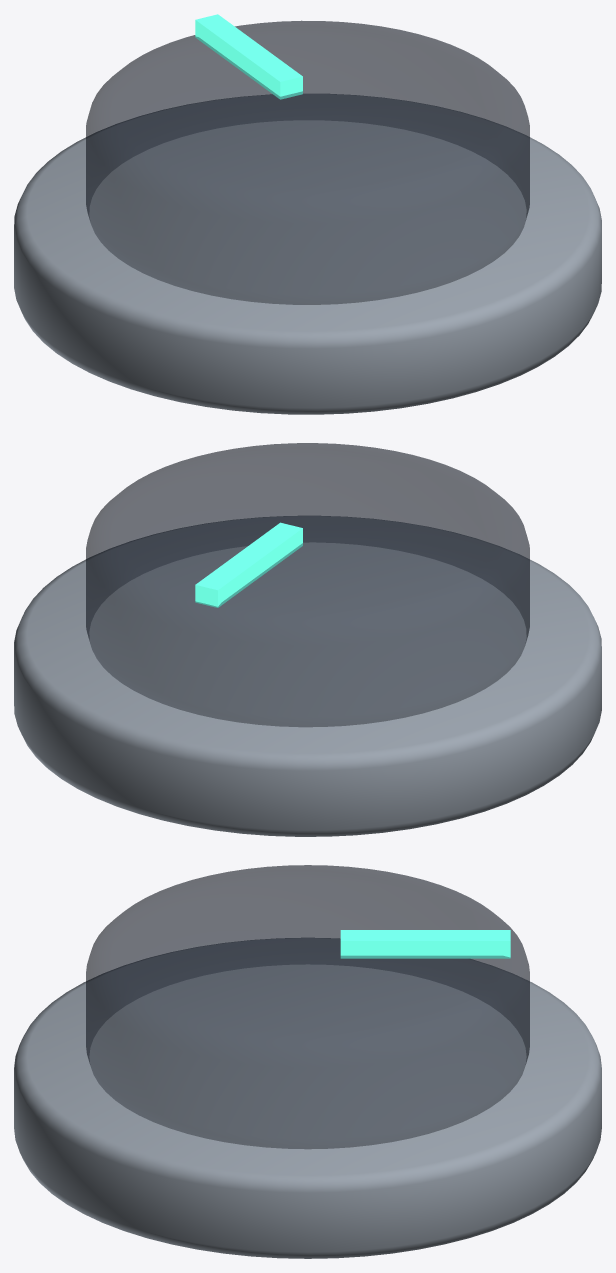
File: dial.glb
3 renders of one model, top to bottom at view 1: azimuth 30°, elevation 25°; view 2: azimuth 150°, elevation 25°; view 3: azimuth 270°, elevation 25°, orthographic.
Visible parts, largest first — view 1: lumen_dial_collar, lumen_dial_knob, lumen_dial_mark; view 2: lumen_dial_collar, lumen_dial_knob, lumen_dial_mark; view 3: lumen_dial_collar, lumen_dial_knob, lumen_dial_mark.
Part boxes in pixels (bbox=[...]): lumen_dial_collar: bbox=[14, 94, 601, 414]; lumen_dial_knob: bbox=[86, 20, 529, 304]; lumen_dial_mark: bbox=[195, 14, 302, 99]; lumen_dial_collar: bbox=[14, 516, 601, 836]; lumen_dial_knob: bbox=[86, 443, 529, 726]; lumen_dial_mark: bbox=[195, 522, 302, 607]; lumen_dial_collar: bbox=[14, 938, 601, 1258]; lumen_dial_knob: bbox=[86, 865, 529, 1148]; lumen_dial_mark: bbox=[340, 930, 510, 958].
Size of the model in its own units: 0.09 by 0.0345 by 0.09.
